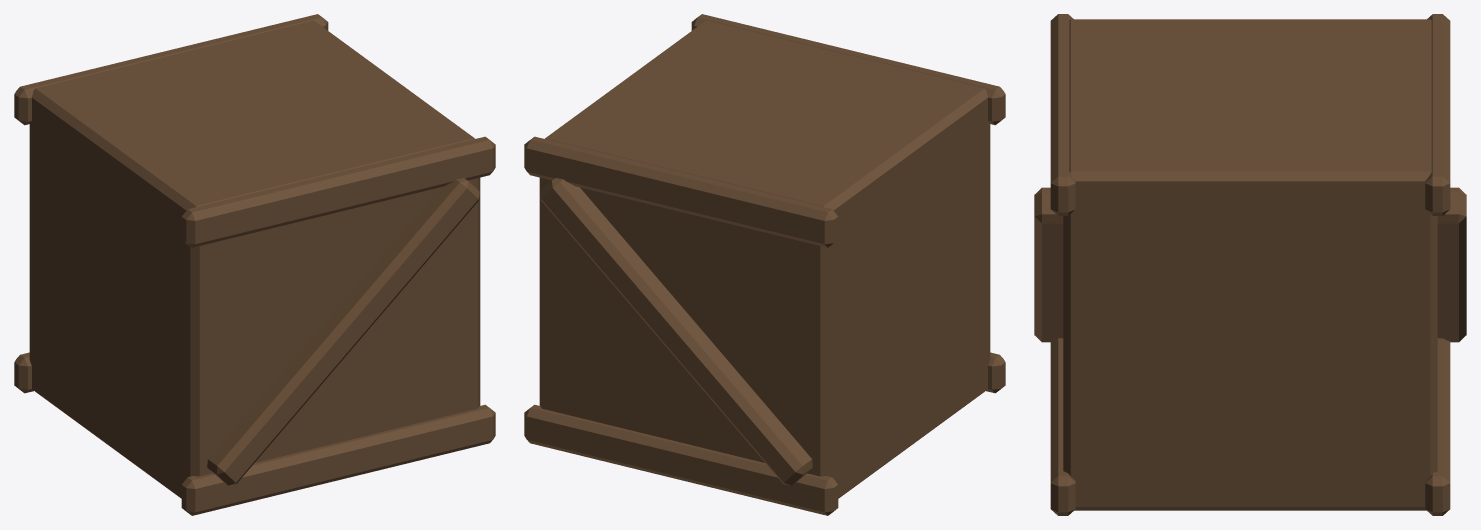
The model's file is crate_l.fbx.
3 views of the same model, side by side, from view 1: azimuth 30°, elevation 25°; view 2: azimuth 150°, elevation 25°; view 3: azimuth 270°, elevation 25° (orthographic). The views are drawn at different scales.
Parts seen in each view (by area): view 1: crate_l; view 2: crate_l; view 3: crate_l.
Part boxes in pixels (x1,y1,x2,y2): crate_l: (14, 14, 495, 515); crate_l: (524, 14, 1005, 515); crate_l: (1034, 14, 1466, 515).
Bounding box in the file's own units: 320 × 300 × 346.
